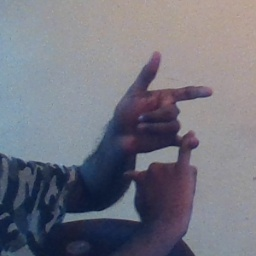S: (99, 48, 222, 189)
